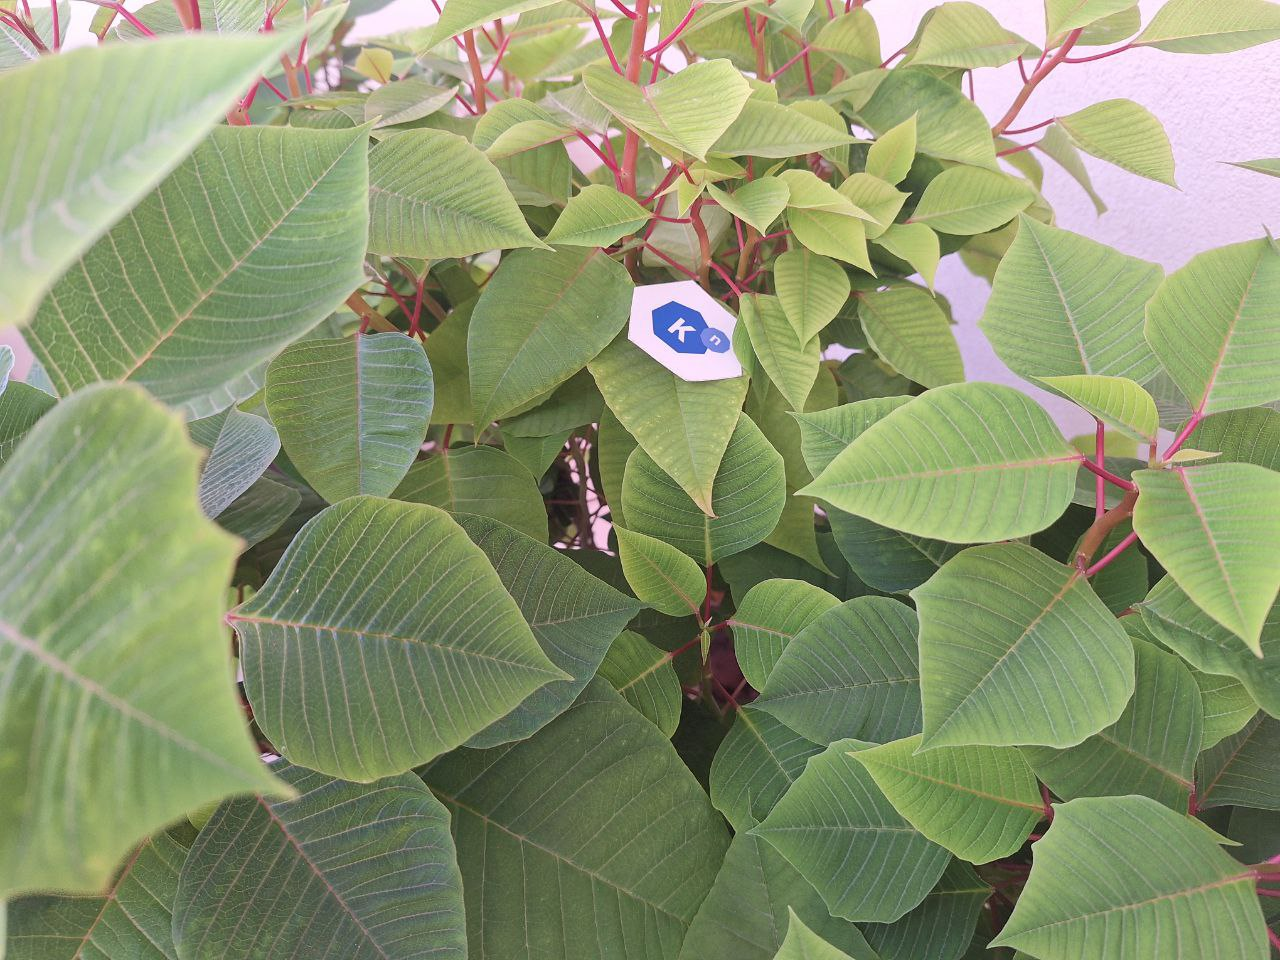knative: (651, 299, 731, 356)
